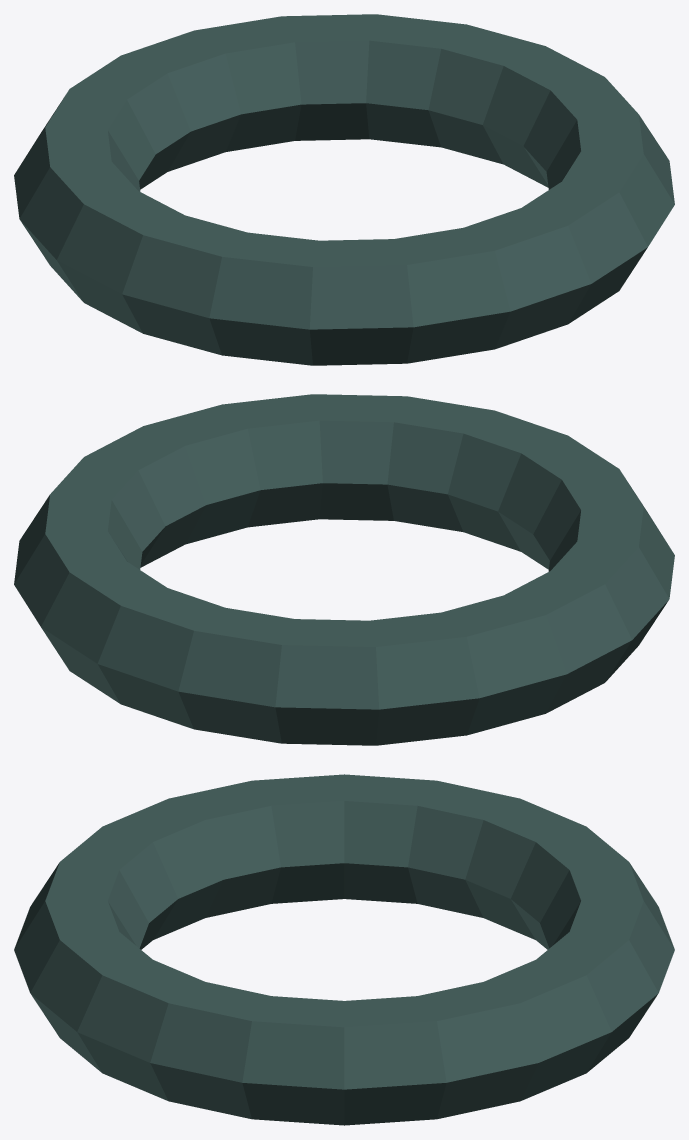
The model's file is Checkpoint_RingIdle.gltf.
3 views of the same model, one above another, from view 1: azimuth 30°, elevation 25°; view 2: azimuth 150°, elevation 25°; view 3: azimuth 270°, elevation 25° (orthographic).
Parts seen in each view (by area): view 1: Checkpoint_RingIdle_baked; view 2: Checkpoint_RingIdle_baked; view 3: Checkpoint_RingIdle_baked.
Boxes of the visible parts, bbox=[...] form: Checkpoint_RingIdle_baked: bbox=[14, 14, 674, 365]; Checkpoint_RingIdle_baked: bbox=[14, 394, 674, 745]; Checkpoint_RingIdle_baked: bbox=[14, 774, 674, 1125].
Size of the model in its own units: 0.37 by 0.0606 by 0.37.
